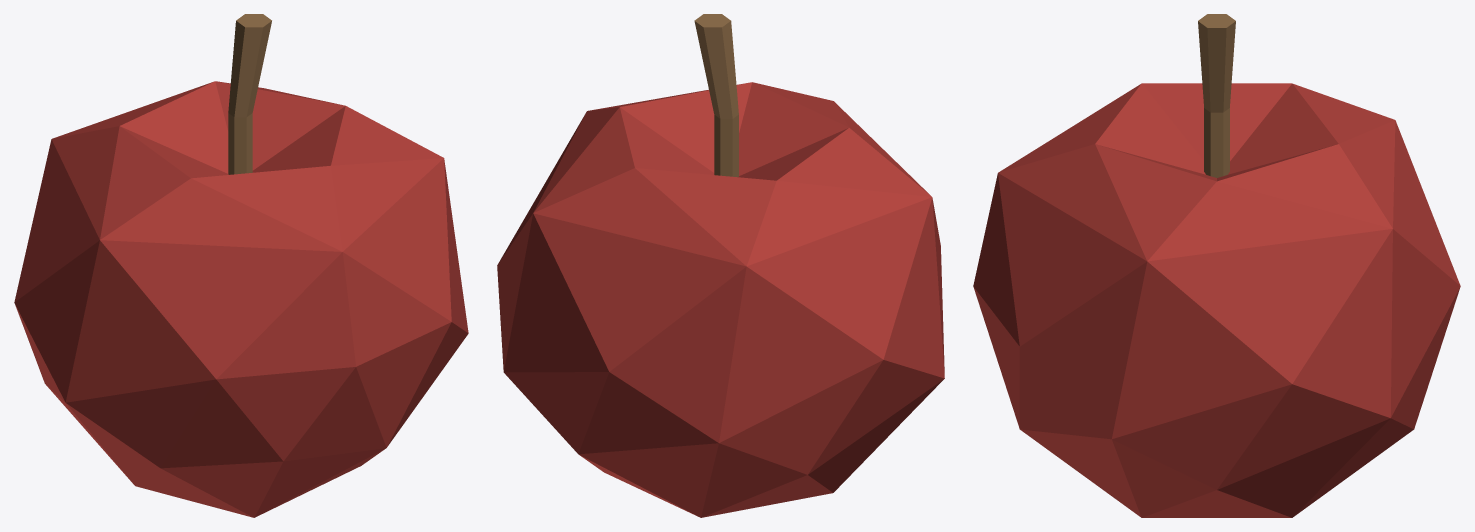
The model's file is Apple_02.fbx.
The picture shows the model from 3 angles, left to right: view 1: azimuth 30°, elevation 25°; view 2: azimuth 150°, elevation 25°; view 3: azimuth 270°, elevation 25°; orthographic projection. The views are drawn at different scales.
Visible parts, largest first — view 1: Apple_02; view 2: Apple_02; view 3: Apple_02.
Boxes of the visible parts, left/top/right/bottom form: Apple_02: left=14, top=14, right=468, bottom=517; Apple_02: left=497, top=14, right=944, bottom=517; Apple_02: left=973, top=14, right=1460, bottom=517.
Bounding box in the file's own units: 11.2 × 12.96 × 11.64.
